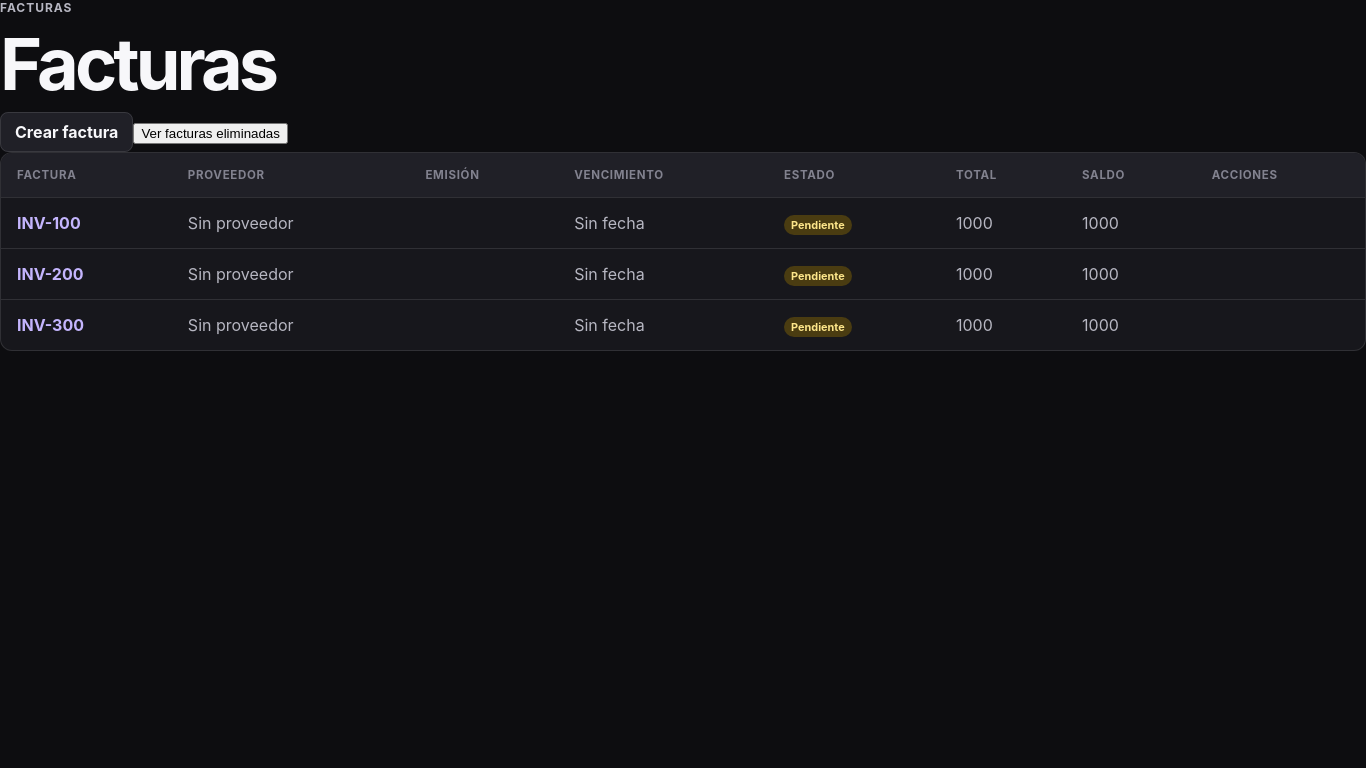
Scenario: InvoiceListPage › reports a restore failure without silently returning the invoice to the active list
Click the button "Ver facturas eliminadas": (211,133) x1=133 y1=123 x2=288 y2=144
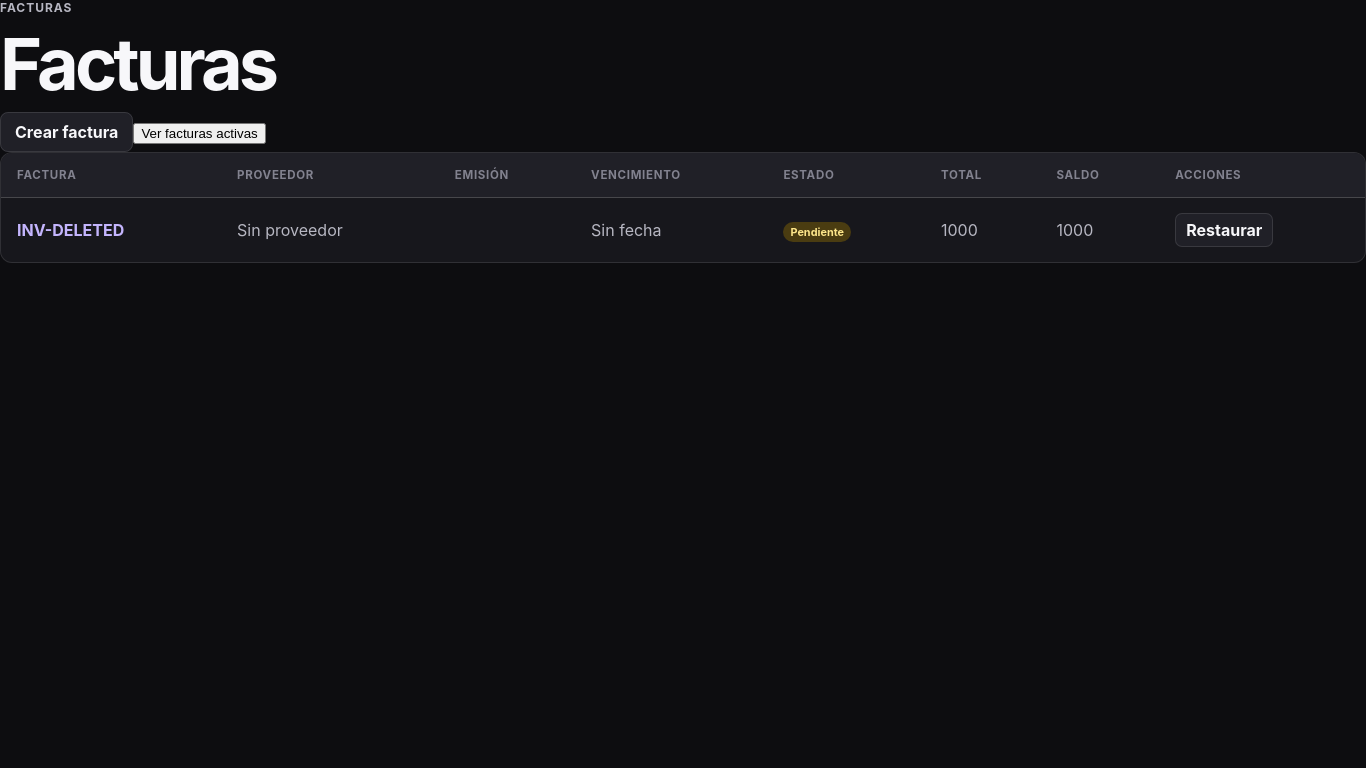
Click the button "Restaurar": (1224,230) x1=1175 y1=213 x2=1273 y2=247
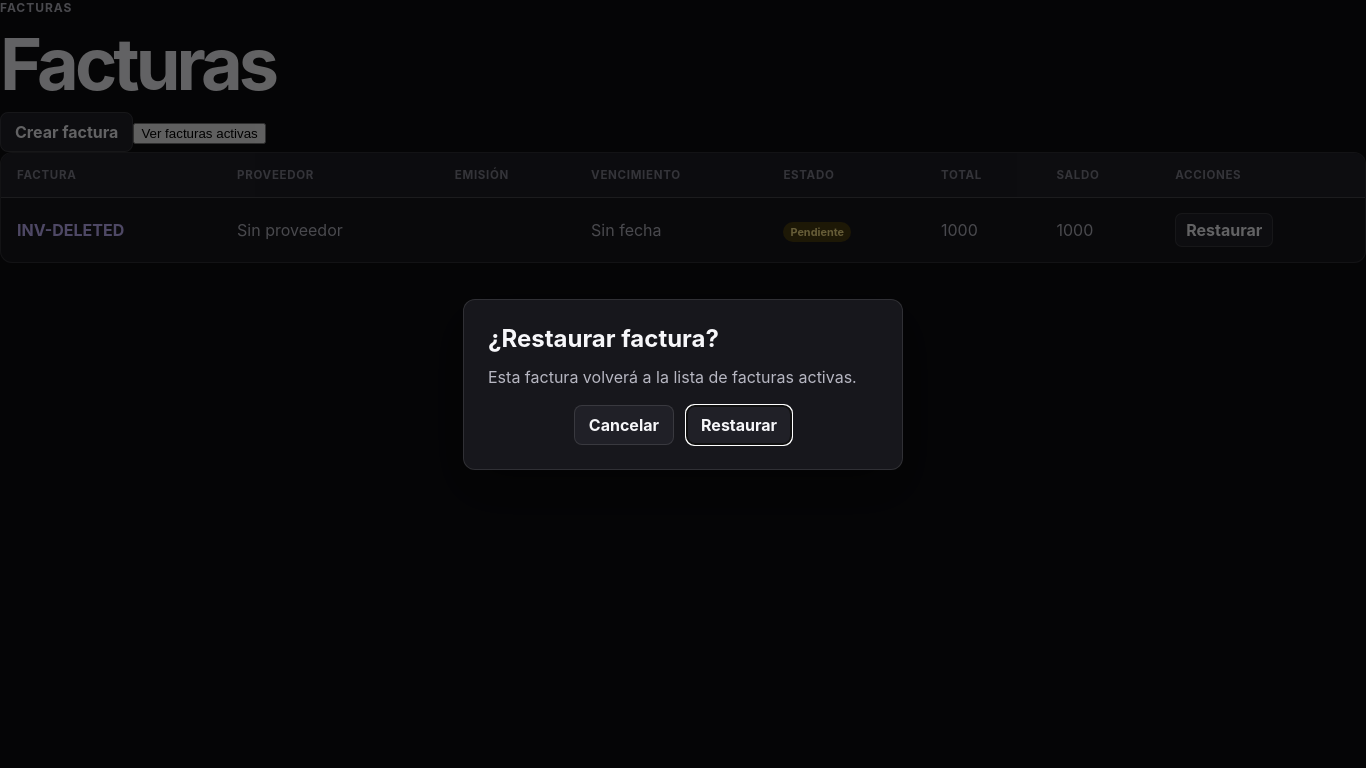
Click the button "Restaurar": (739,424) x1=686 y1=404 x2=792 y2=444
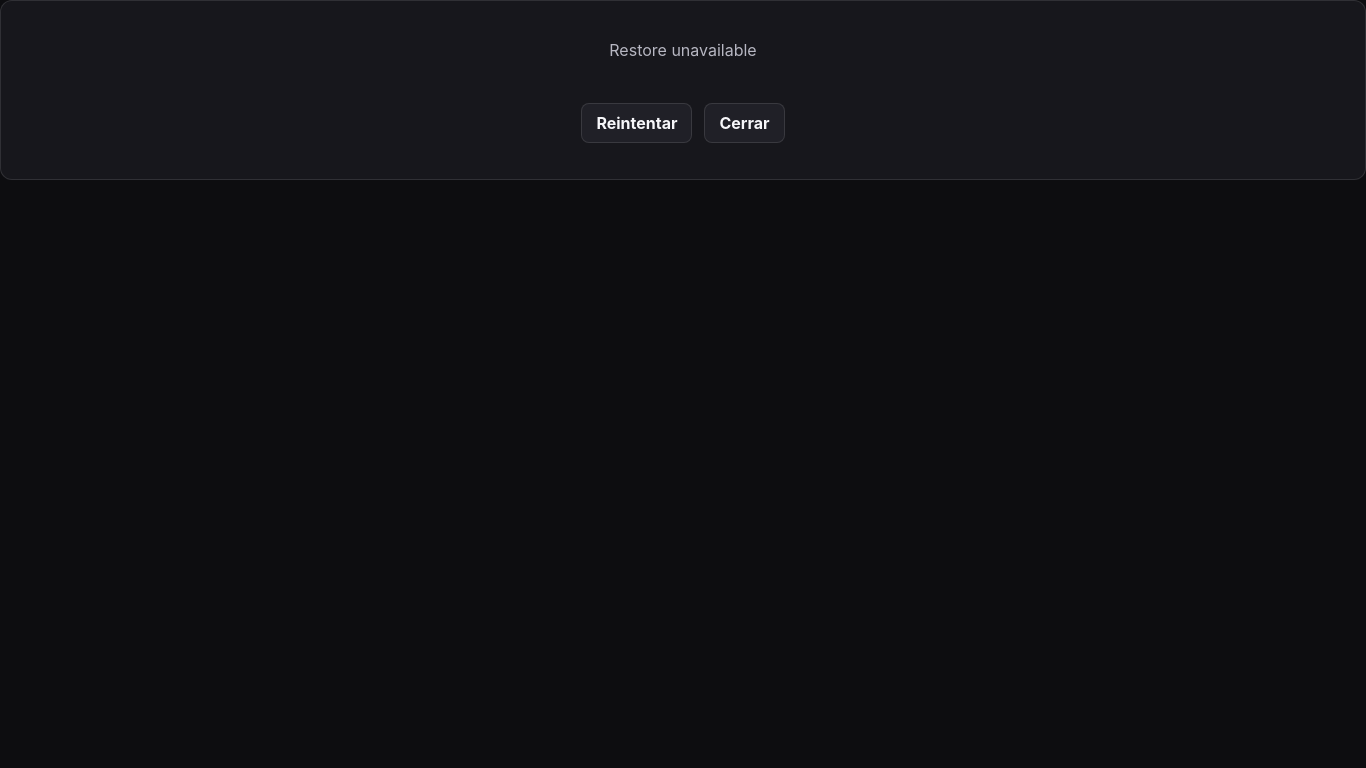
Expected: the link "INV-100" is not shown
Expected: the message shows "Restore unavailable", x1=609 y1=40 x2=757 y2=60
